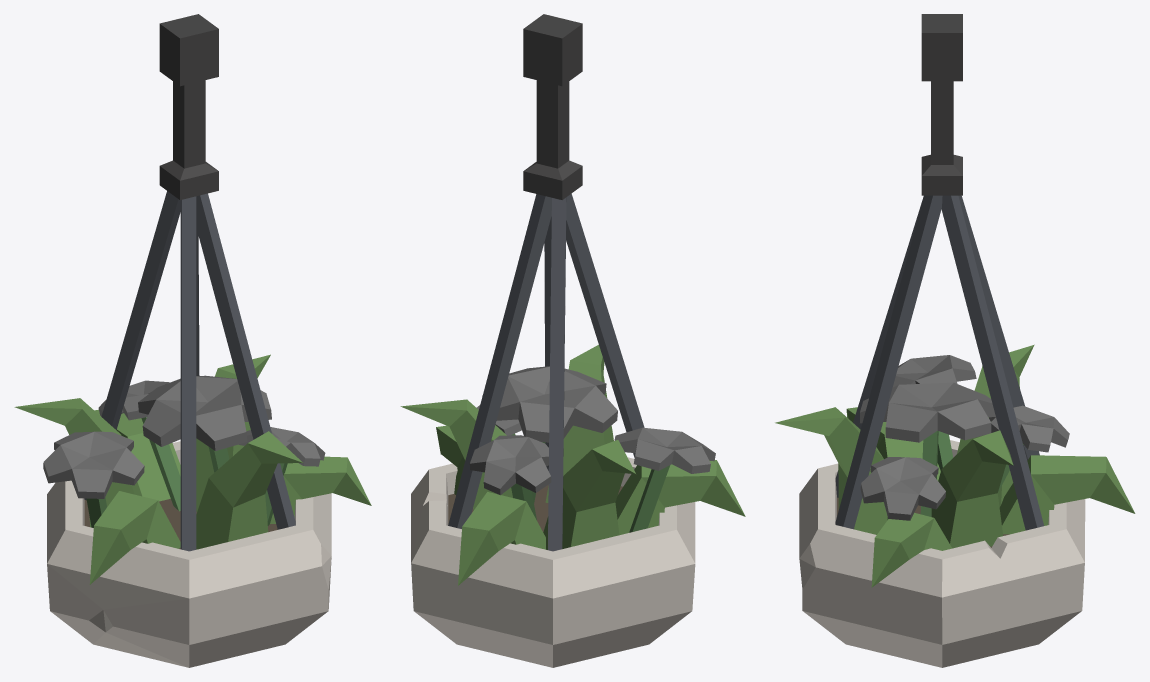
The model's file is SM_Prop_PotPlant_Hanging_01.fbx.
3 views of the same model, side by side, from view 1: azimuth 30°, elevation 25°; view 2: azimuth 150°, elevation 25°; view 3: azimuth 270°, elevation 25° (orthographic).
Parts seen in each view (by area): view 1: SM_Prop_PotPlant_Hanging_01; view 2: SM_Prop_PotPlant_Hanging_01; view 3: SM_Prop_PotPlant_Hanging_01.
Part boxes in pixels (x1,y1,x2,y2): SM_Prop_PotPlant_Hanging_01: [14, 14, 371, 667]; SM_Prop_PotPlant_Hanging_01: [400, 14, 745, 667]; SM_Prop_PotPlant_Hanging_01: [775, 14, 1135, 667].
Size of the model in its own units: 43.05 by 82.44 by 45.2.
